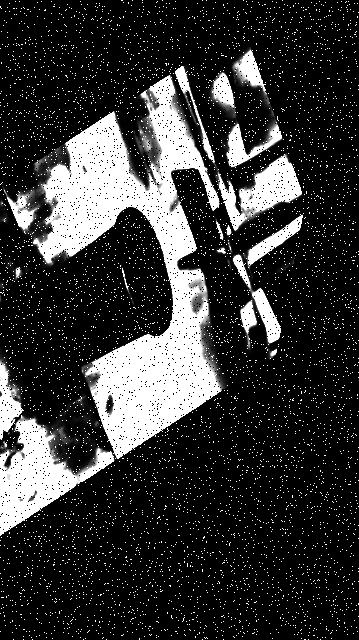pot: (24, 209, 170, 374)
